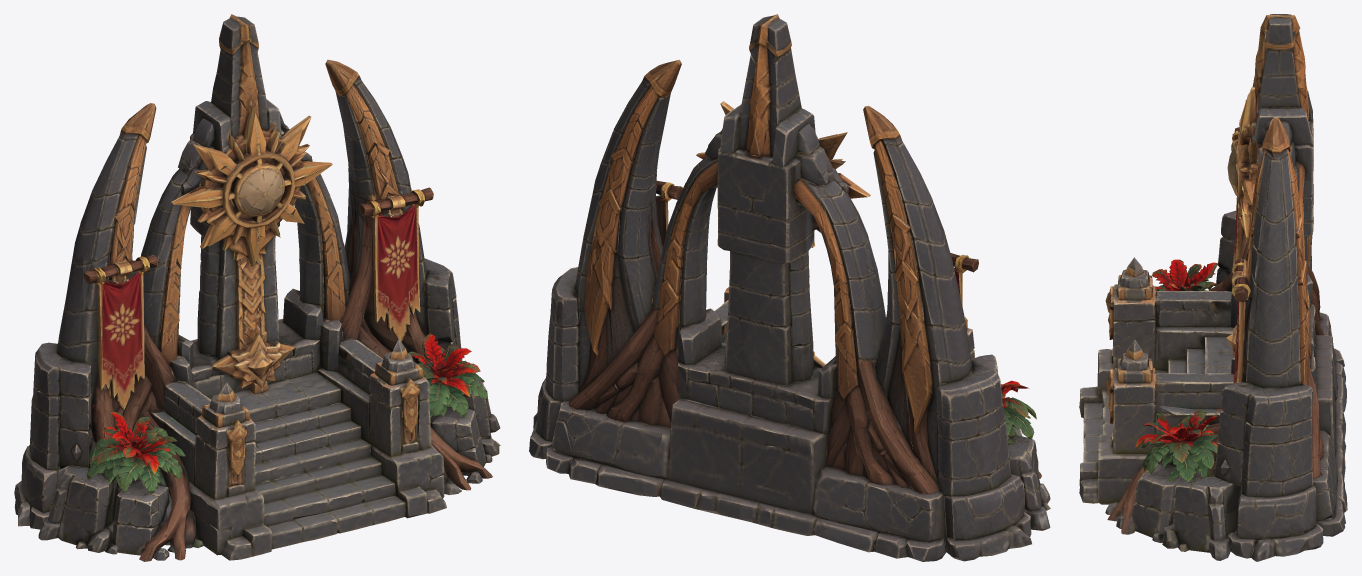
Rendered from Meshy_AI_SunShrine_LowPoly_Opt_1015160211_texture.fbx.
3 views of the same model, side by side, from view 1: azimuth 30°, elevation 25°; view 2: azimuth 150°, elevation 25°; view 3: azimuth 270°, elevation 25° (orthographic). The views are drawn at different scales.
Visible parts, largest first — view 1: output_unwrapped; view 2: output_unwrapped; view 3: output_unwrapped.
Boxes of the visible parts, x1=… form: output_unwrapped: x1=14, y1=14, x2=500, y2=561; output_unwrapped: x1=529, y1=14, x2=1050, y2=561; output_unwrapped: x1=1079, y1=14, x2=1347, y2=561.
Size of the model in its own units: 190 by 173 by 96.35.
1 material, 1 textured.
